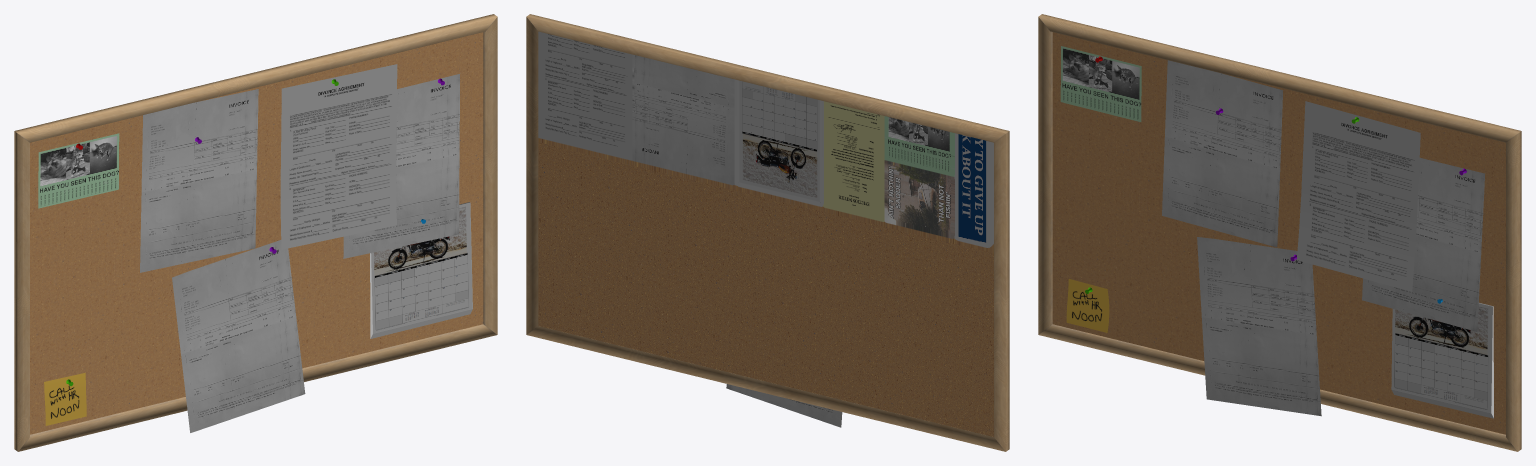
Rendered from SM_NoticeBoard_01e.fbx.
3 views of the same model, side by side, from view 1: azimuth 30°, elevation 25°; view 2: azimuth 150°, elevation 25°; view 3: azimuth 330°, elevation 25° (orthographic).
Parts seen in each view (by area): view 1: SM_NoticeBoard_01e; view 2: SM_NoticeBoard_01e; view 3: SM_NoticeBoard_01e.
Part boxes in pixels (x1,y1,x2,y2): SM_NoticeBoard_01e: (14, 14, 497, 451); SM_NoticeBoard_01e: (526, 14, 1009, 451); SM_NoticeBoard_01e: (1038, 14, 1521, 451).
Bounding box in the file's own units: 89.24 × 60.43 × 2.03.
1 material, 1 textured.
